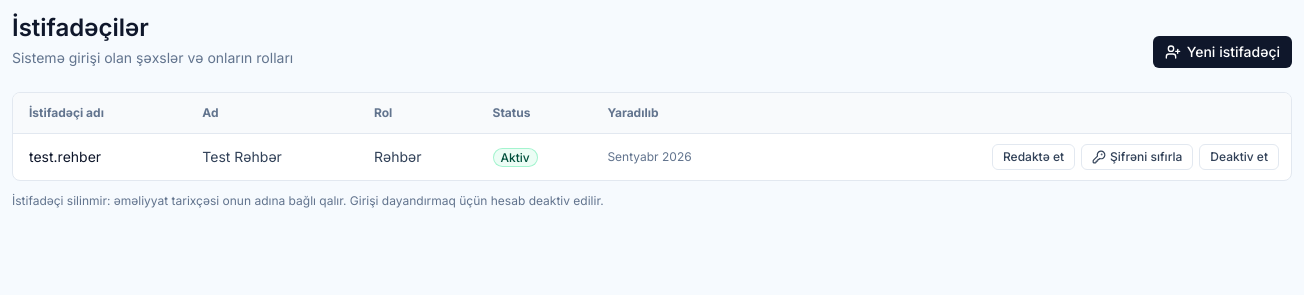
Scenario: editing somebody › shows the server’s refusal to disable the last Rəhbər
Check: the heading "İstifadəçilər" is shown, box [12,13,149,42]
Click the button "Deaktiv et". click: x=1239, y=157
box: [1199,144,1279,170]
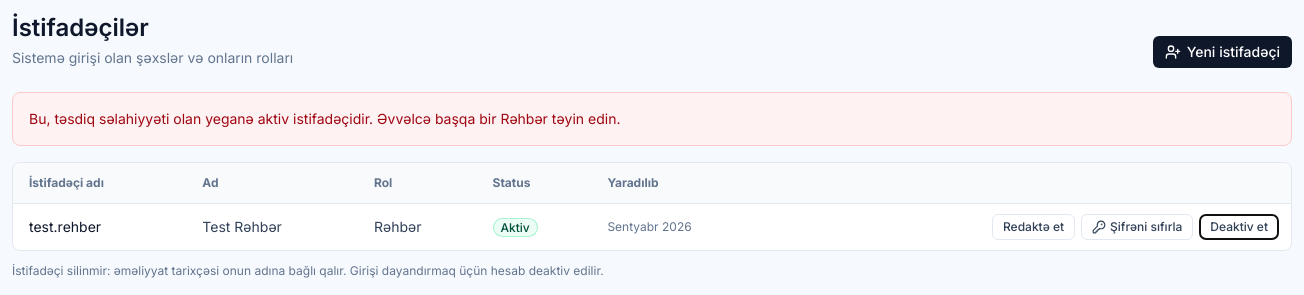
Check: the message shows "Bu, təsdiq səlahiyyəti olan yeganə aktiv istifadəçidir. Əvvəlcə başqa bir Rəhbər təyin edin.", box [29,110,620,127]
